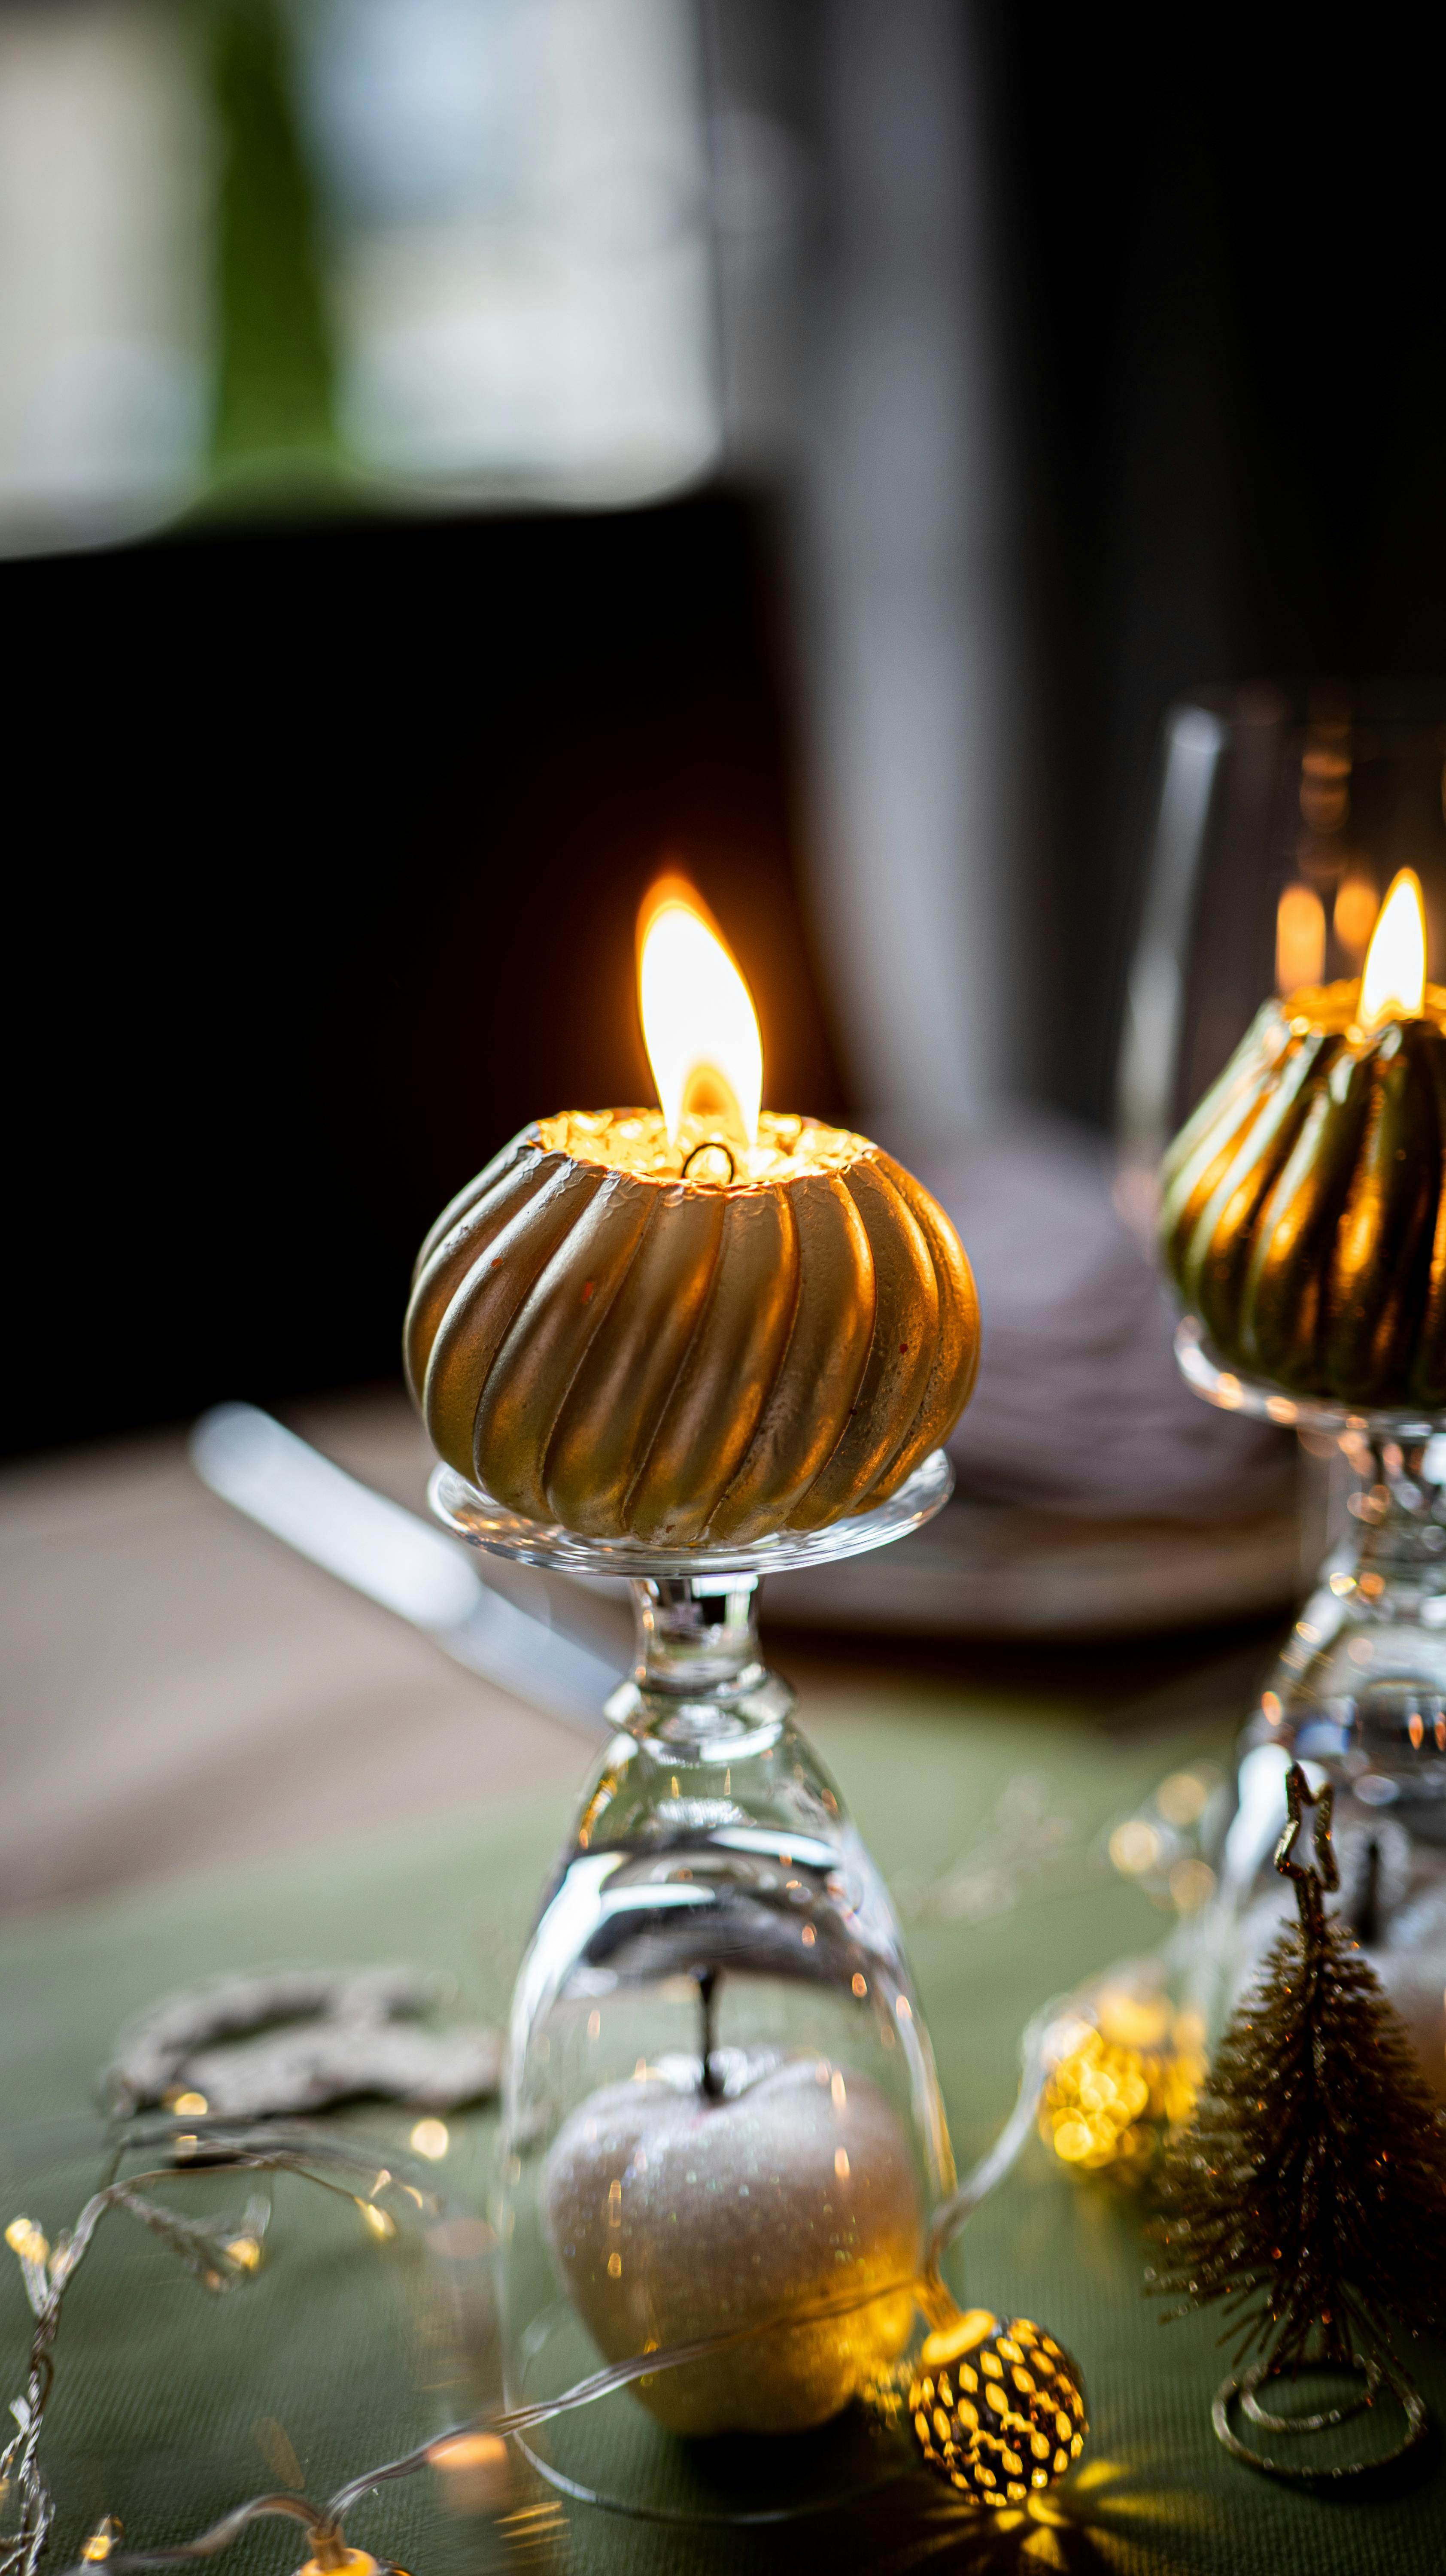Fire: (614, 860, 800, 1152), (1331, 855, 1446, 1046)
